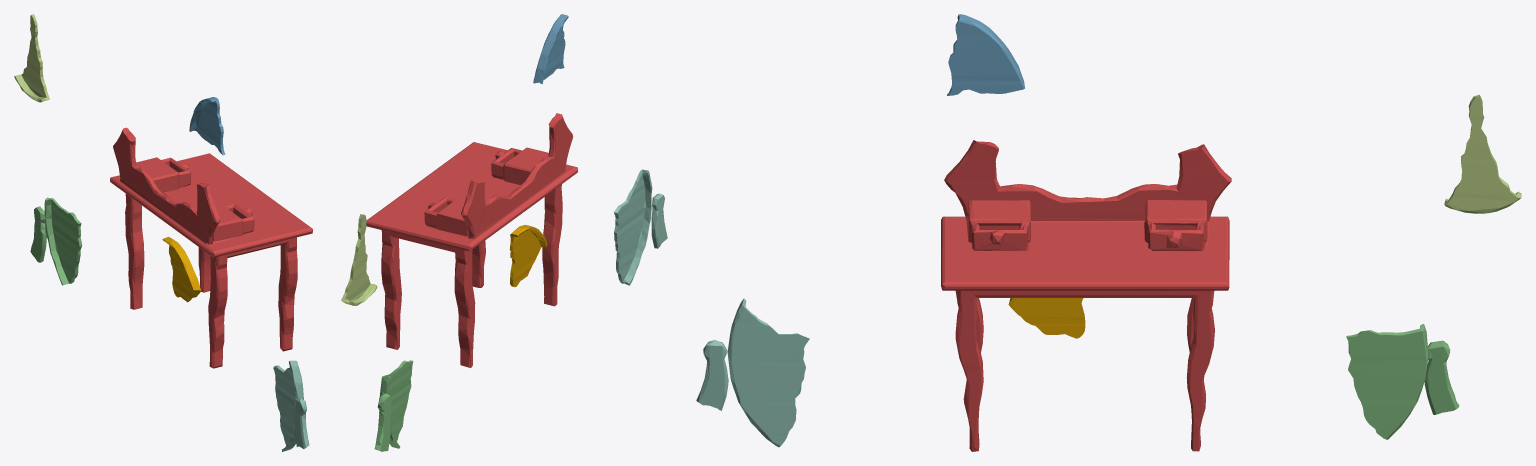
File: fractured_15_6pcs_transformed.glb
3 renders of one model, left to right at view 1: azimuth 30°, elevation 25°; view 2: azimuth 150°, elevation 25°; view 3: azimuth 270°, elevation 25°, orthographic. The views are drawn at different scales.
Parts seen in each view (by area): view 1: piece_1.obj, piece_3.obj, piece_4.obj, piece_5.obj, piece_0.obj, piece_2.obj; view 2: piece_1.obj, piece_4.obj, piece_3.obj, piece_0.obj, piece_5.obj, piece_2.obj; view 3: piece_1.obj, piece_4.obj, piece_3.obj, piece_2.obj, piece_5.obj, piece_0.obj.
Part boxes in pixels (x1,y1,x2,y2): piece_1.obj: (110,127,312,368); piece_3.obj: (30,197,82,285); piece_4.obj: (273,360,309,451); piece_5.obj: (14,14,49,102); piece_0.obj: (162,237,201,302); piece_2.obj: (189,97,225,155); piece_1.obj: (366,113,577,367); piece_4.obj: (614,169,667,285); piece_3.obj: (374,360,413,451); piece_0.obj: (509,225,547,287); piece_5.obj: (341,214,377,305); piece_2.obj: (533,14,568,84); piece_1.obj: (941,140,1231,451); piece_4.obj: (696,298,809,447); piece_3.obj: (1346,324,1459,439); piece_2.obj: (947,14,1024,95); piece_5.obj: (1444,94,1521,213); piece_0.obj: (1008,298,1085,338).
Bounding box in the file's own units: 0.3649 × 1.06 × 1.86.
